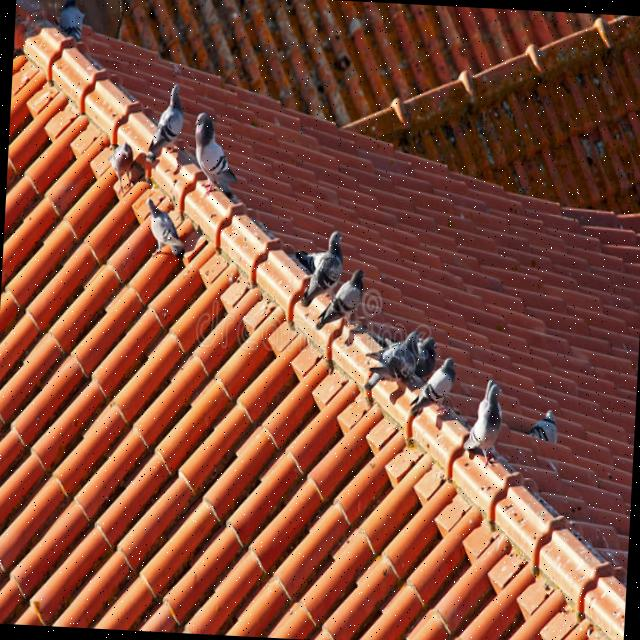bird: (191, 112, 243, 203), (292, 228, 346, 310), (362, 328, 422, 392), (463, 377, 505, 465), (316, 266, 366, 333), (146, 82, 186, 164), (410, 354, 458, 418), (143, 197, 188, 260), (404, 330, 438, 380), (58, 0, 87, 42), (156, 144, 182, 177)
